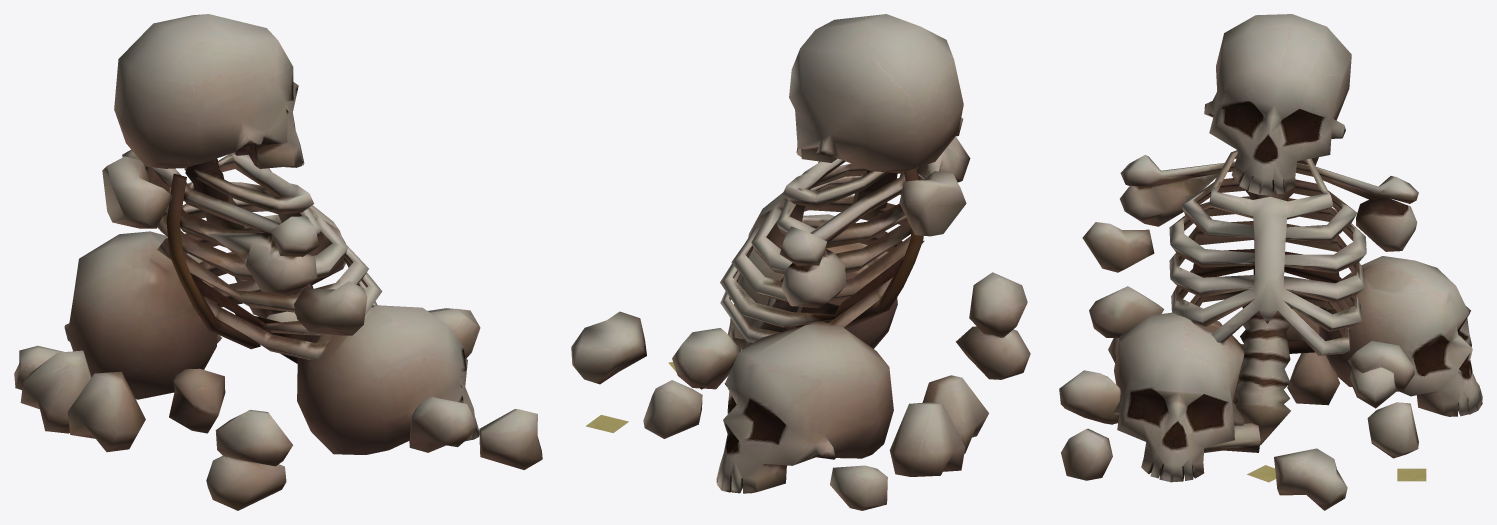
File: bone_pile.glb
The picture shows the model from 3 angles, left to right: view 1: azimuth 30°, elevation 25°; view 2: azimuth 150°, elevation 25°; view 3: azimuth 270°, elevation 25°; orthographic projection. The views are drawn at different scales.
Visible parts, largest first — view 1: tripo_node_6e247cd3-877f-418c-b35e-1044935bc3af; view 2: tripo_node_6e247cd3-877f-418c-b35e-1044935bc3af; view 3: tripo_node_6e247cd3-877f-418c-b35e-1044935bc3af.
Boxes of the visible parts, x1,y1,x2,y2 form: tripo_node_6e247cd3-877f-418c-b35e-1044935bc3af: (14,14,542,510); tripo_node_6e247cd3-877f-418c-b35e-1044935bc3af: (571,14,1030,510); tripo_node_6e247cd3-877f-418c-b35e-1044935bc3af: (1059,14,1482,510).
Size of the model in its own units: 0.7111 by 0.7 by 0.7111.
1 material, 1 textured.
